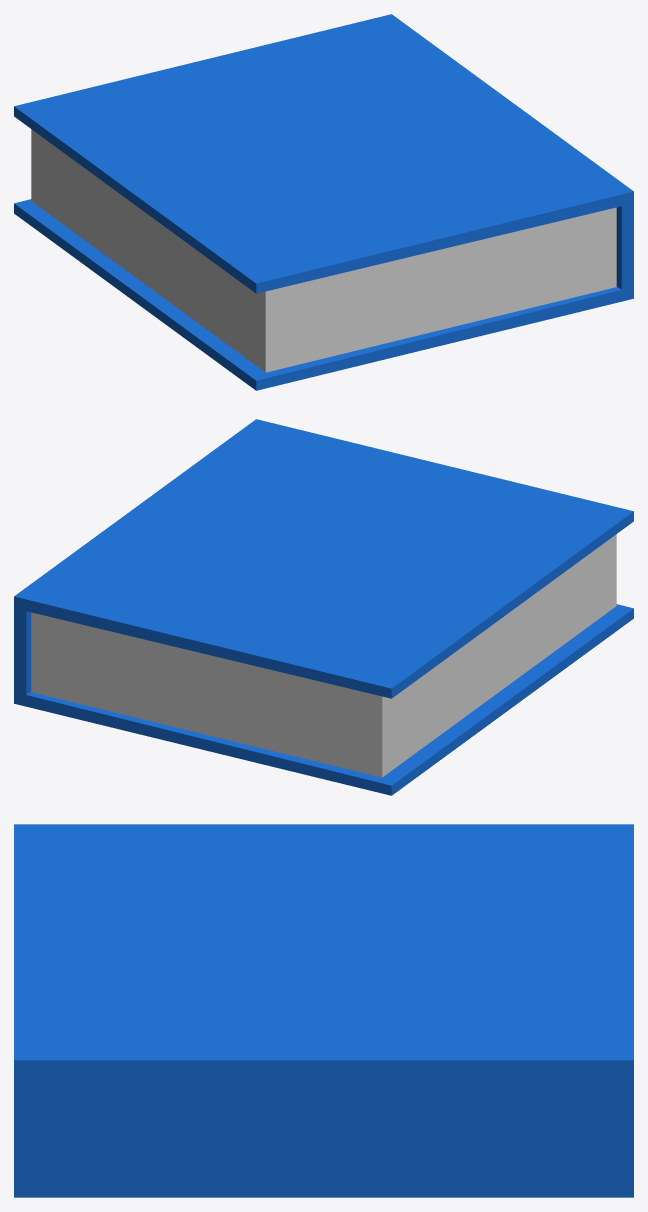
File: boek2.fbx
3 renders of one model, top to bottom at view 1: azimuth 30°, elevation 25°; view 2: azimuth 150°, elevation 25°; view 3: azimuth 270°, elevation 25°, orthographic. The views are drawn at different scales.
Visible parts, largest first — view 1: Cube.114, Cube.116; view 2: Cube.114, Cube.116; view 3: Cube.114.
Boxes of the visible parts, x1,y1,x2,y2 form: Cube.114: (14,14,633,390); Cube.116: (31,129,616,372); Cube.114: (14,419,633,795); Cube.116: (31,534,616,777); Cube.114: (14,824,633,1197).
Bounding box in the file's own units: 180 × 48.83 × 200.
